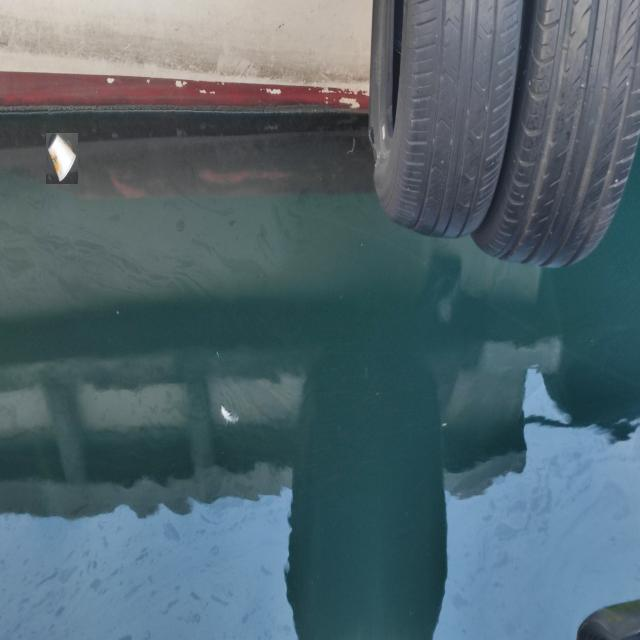Plastic cup: (46, 133, 78, 184)
